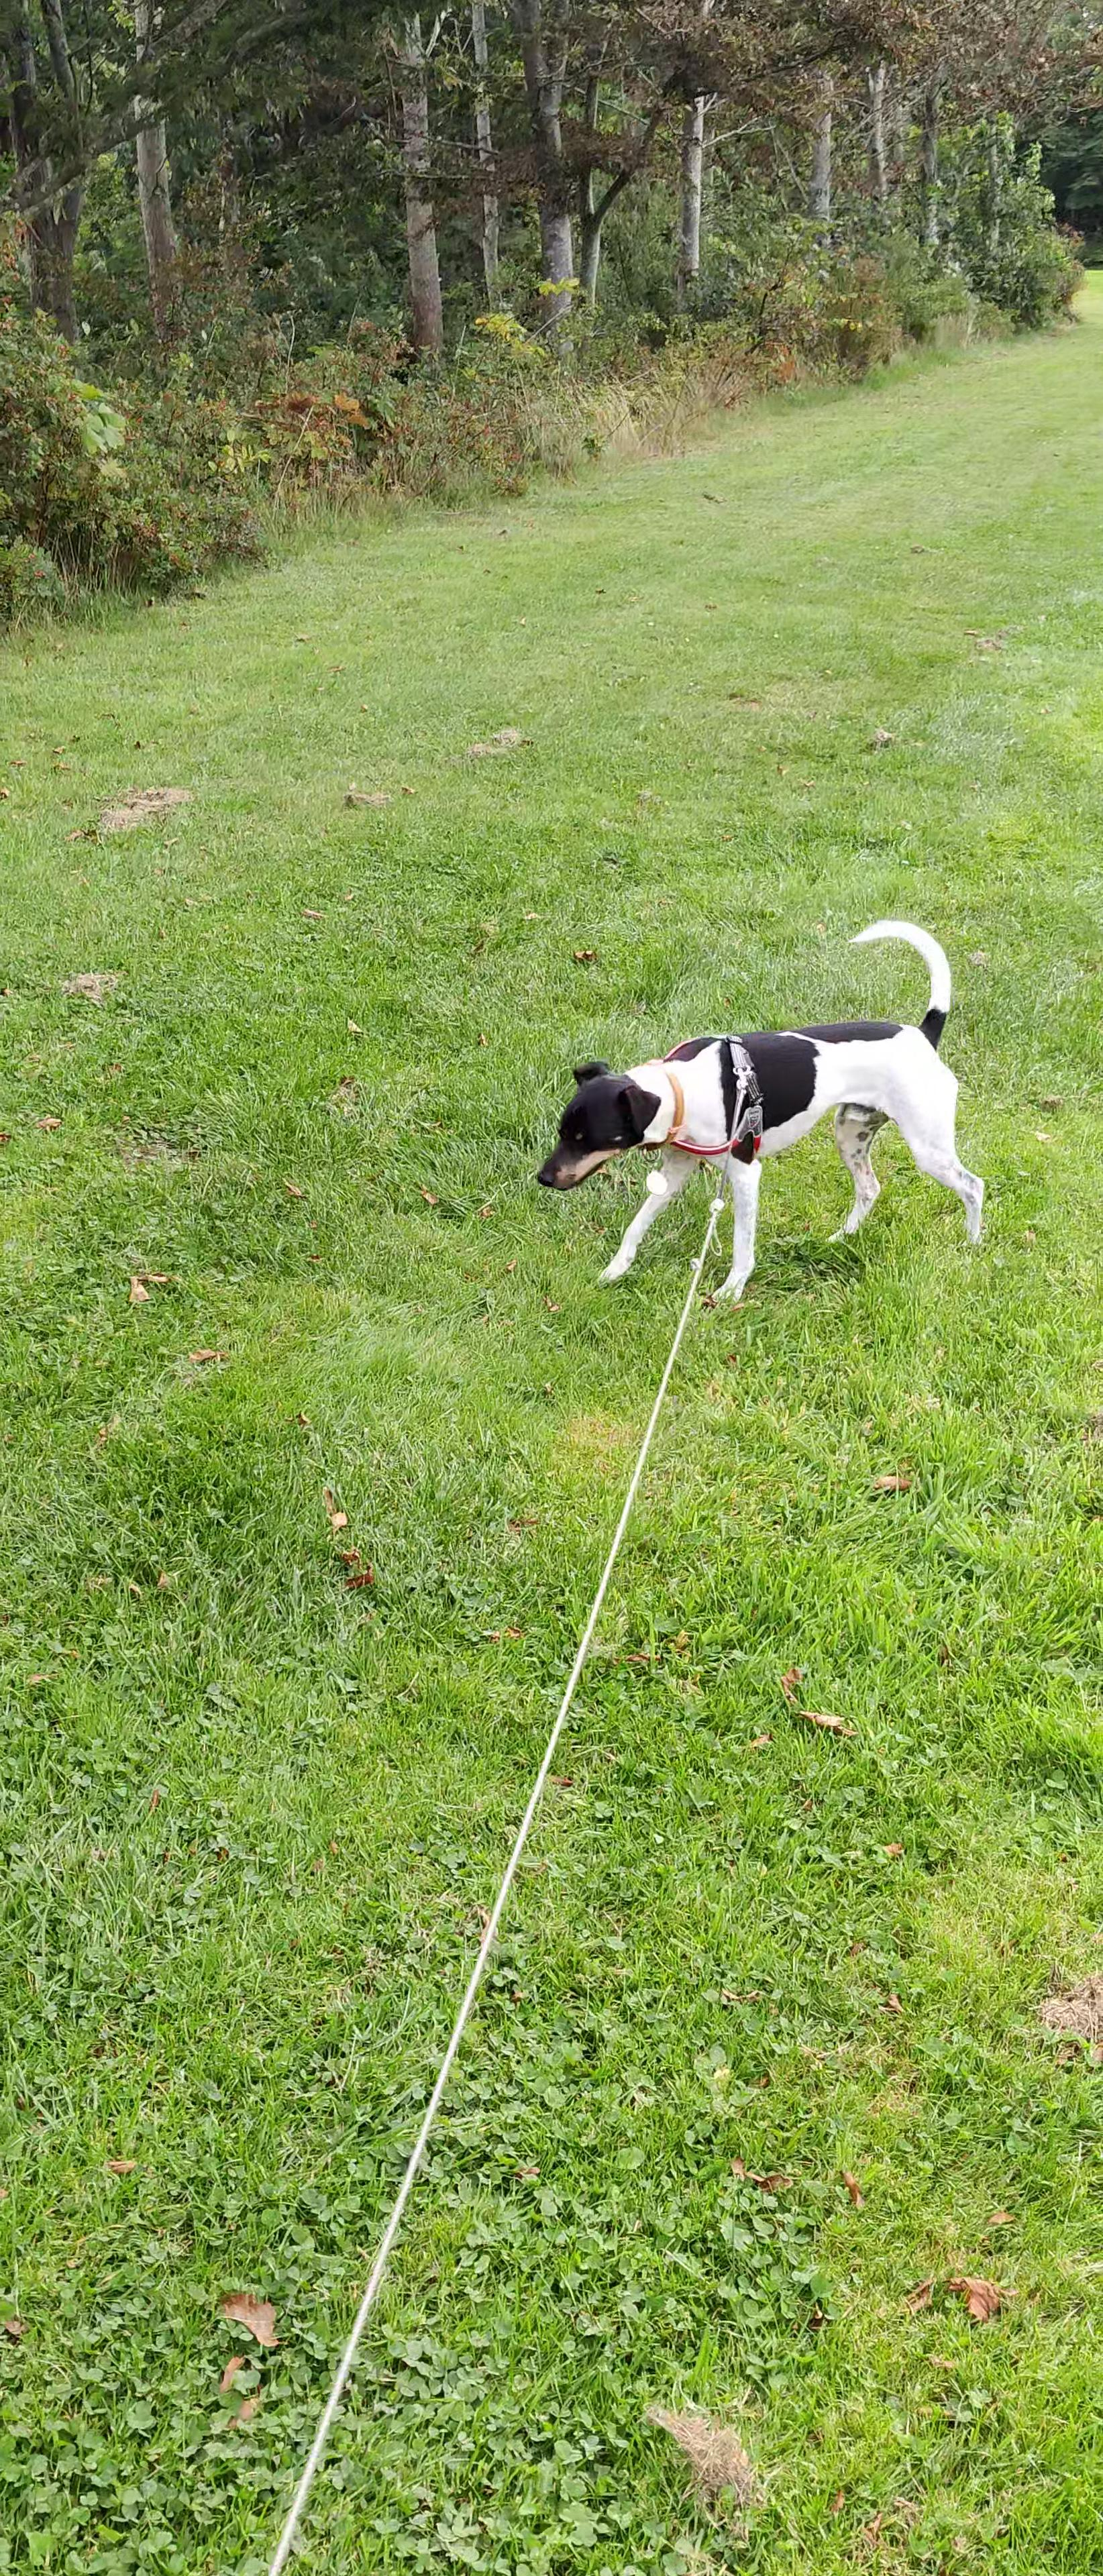Dog: (521, 904, 1006, 1296)
